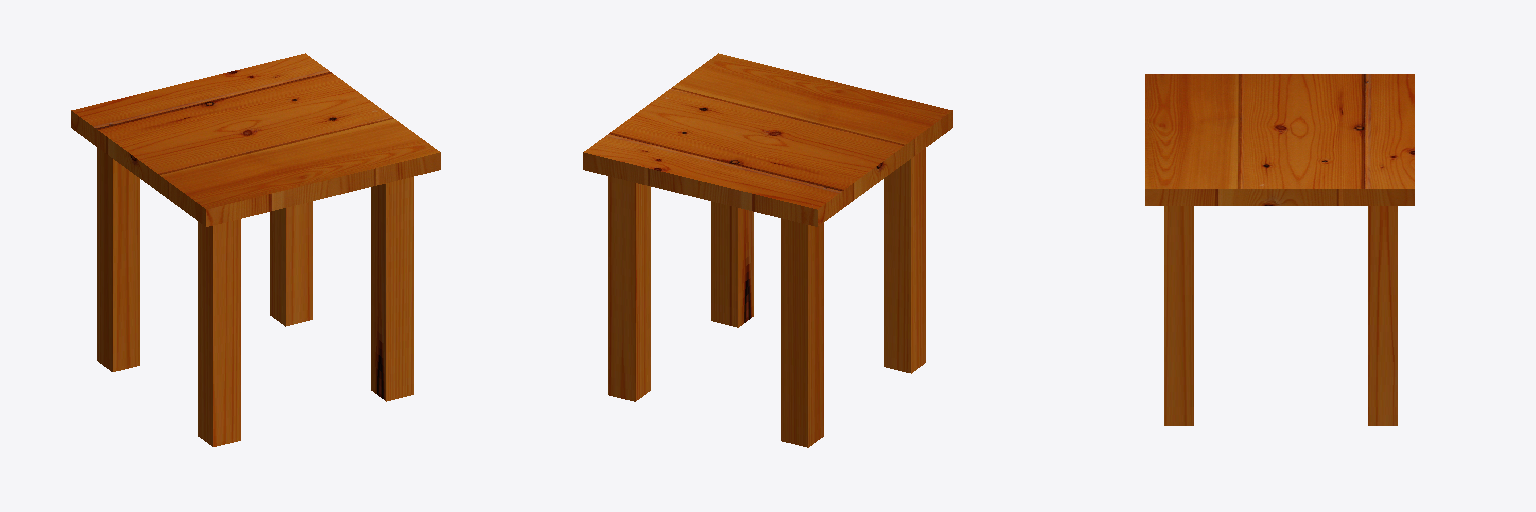
3 renders of one model, left to right at view 1: azimuth 30°, elevation 25°; view 2: azimuth 150°, elevation 25°; view 3: azimuth 270°, elevation 25°, orthographic.
Visible parts, largest first — view 1: Cube.006_Cube.005; view 2: Cube.006_Cube.005; view 3: Cube.006_Cube.005.
Boxes of the visible parts, x1=… form: Cube.006_Cube.005: x1=71, y1=53, x2=440, y2=446; Cube.006_Cube.005: x1=583, y1=53, x2=952, y2=447; Cube.006_Cube.005: x1=1145, y1=74, x2=1414, y2=425.
Size of the model in its own units: 4.19 by 4.26 by 4.19.
1 materials, 1 textured.